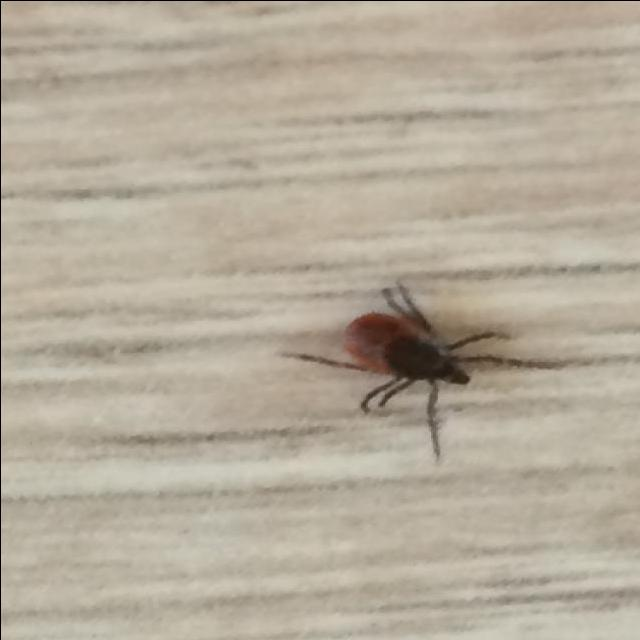Ixodes Ricinus-F: (276, 279, 591, 460)
